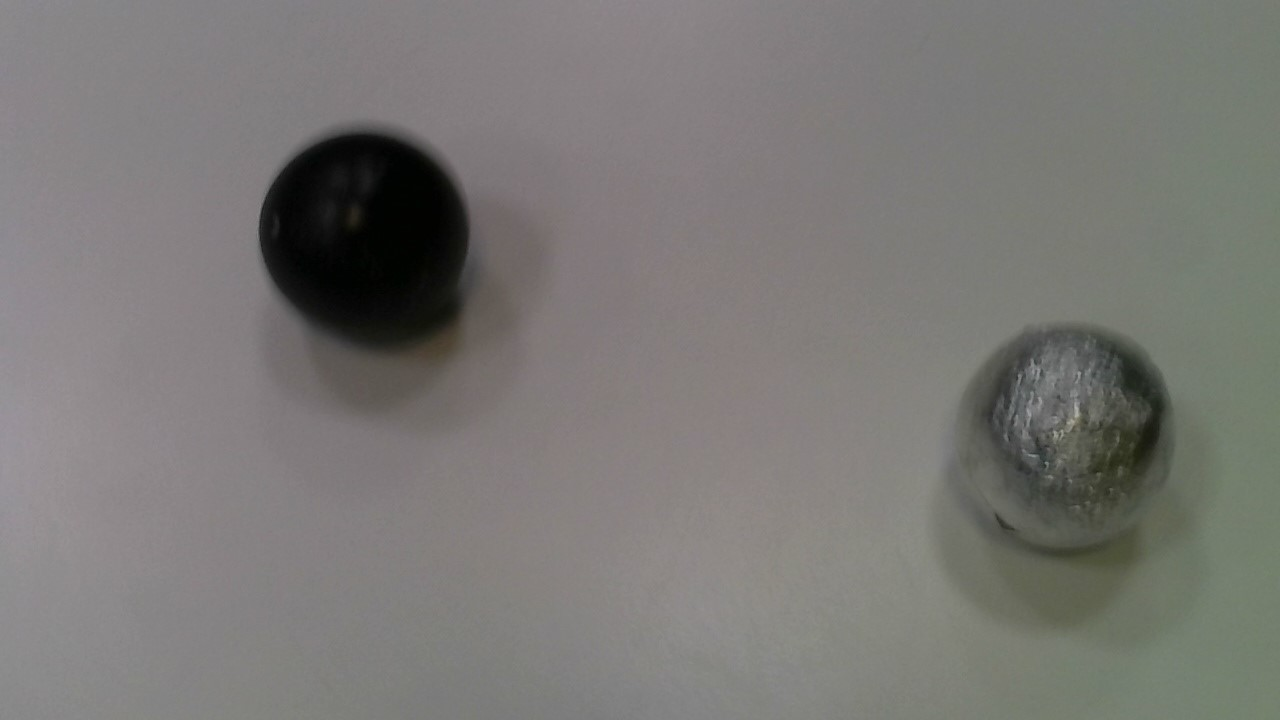black_ball: (254, 115, 480, 345)
silver_ball: (942, 315, 1189, 555)
